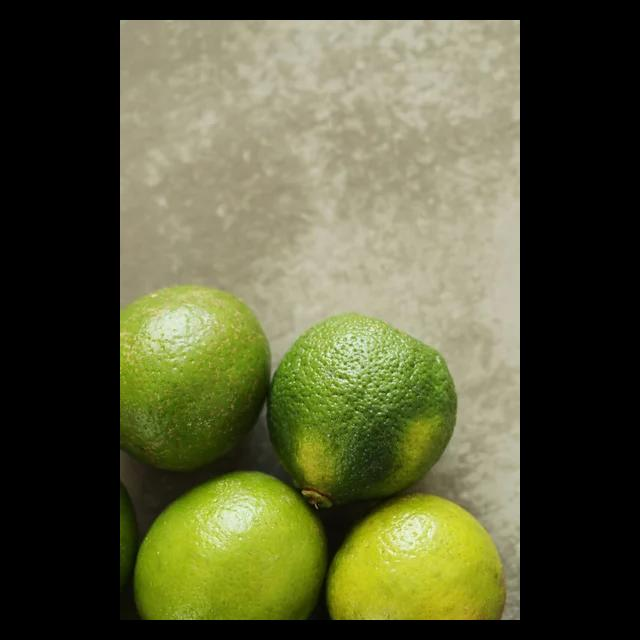lime: (260, 307, 470, 516), (124, 467, 333, 620), (120, 279, 277, 477), (315, 482, 515, 620)
